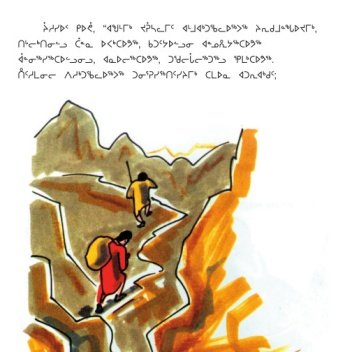inuktitut: (16, 66, 277, 82), (41, 19, 318, 34), (16, 51, 274, 64), (16, 36, 263, 48)
